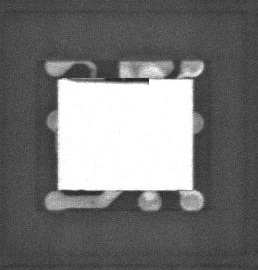DIE_BROKEN: (66, 74, 151, 85)
